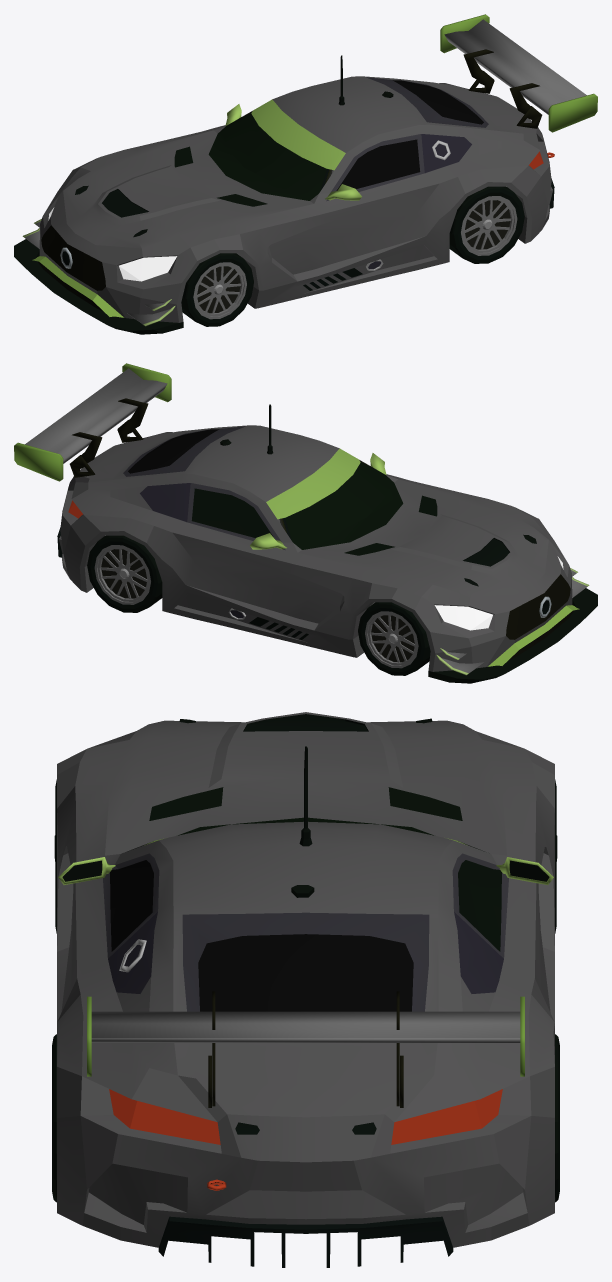
File: tristar.glb
3 renders of one model, top to bottom at view 1: azimuth 30°, elevation 25°; view 2: azimuth 150°, elevation 25°; view 3: azimuth 270°, elevation 25°, orthographic. The views are drawn at different scales.
Visible parts, largest first — view 1: amg Gt body, lfWheel.001; view 2: amg Gt body, lfWheel.001; view 3: amg Gt body, lfWheel.001.
Boxes of the visible parts, x1=… form: amg Gt body: x1=14, y1=14, x2=597, y2=334; lfWheel.001: x1=181, y1=186, x2=524, y2=326; amg Gt body: x1=14, y1=363, x2=597, y2=683; lfWheel.001: x1=87, y1=535, x2=430, y2=675; amg Gt body: x1=54, y1=712, x2=557, y2=1267; lfWheel.001: x1=52, y1=779, x2=559, y2=1202.
Size of the model in its own units: 4.3 by 1.53 by 1.93.
4 materials, 3 textured.
